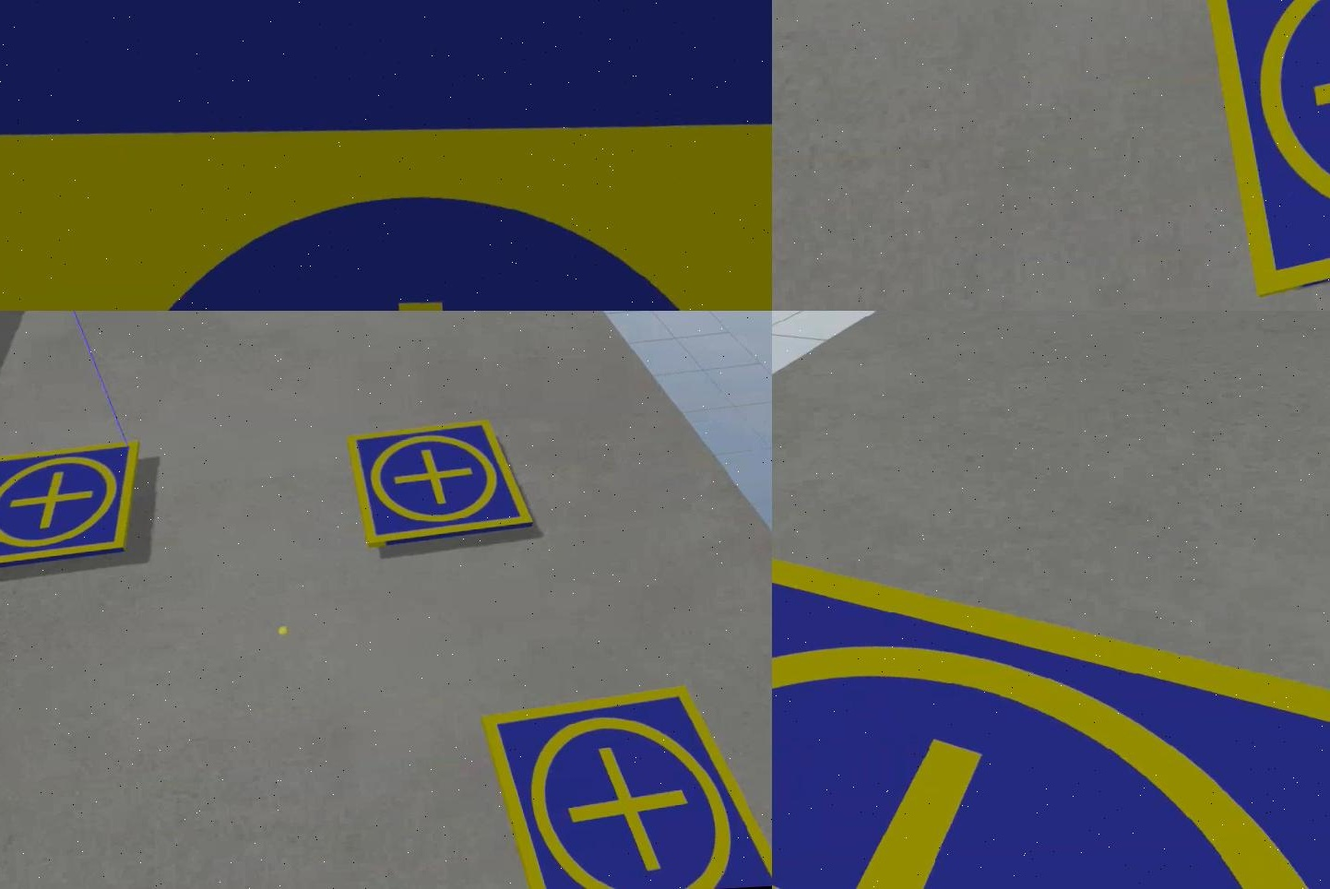large_base: (0, 1, 771, 312)
small_base: (771, 502, 1328, 889), (481, 683, 771, 889), (1195, 1, 1328, 304), (347, 417, 532, 550), (0, 441, 142, 579)
